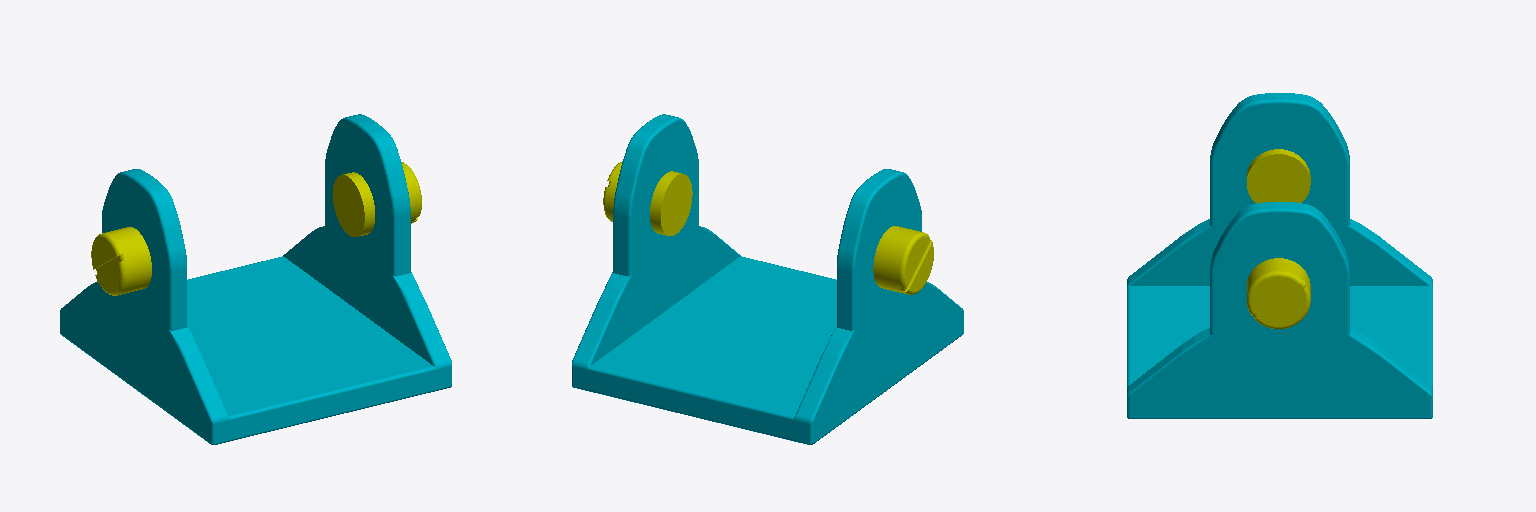
File: CannonFoundation(Horizontal).obj
3 renders of one model, left to right at view 1: azimuth 30°, elevation 25°; view 2: azimuth 150°, elevation 25°; view 3: azimuth 270°, elevation 25°, orthographic.
Parts seen in each view (by area): view 1: 立方体, 円柱.001, 円柱; view 2: 立方体, 円柱.001, 円柱; view 3: 立方体, 円柱, 円柱.001.
Boxes of the visible parts, x1=… form: 立方体: x1=60, y1=114, x2=451, y2=444; 円柱.001: x1=91, y1=227, x2=151, y2=295; 円柱: x1=333, y1=162, x2=421, y2=236; 立方体: x1=572, y1=114, x2=963, y2=444; 円柱.001: x1=873, y1=226, x2=933, y2=294; 円柱: x1=603, y1=161, x2=692, y2=235; 立方体: x1=1127, y1=93, x2=1432, y2=418; 円柱: x1=1247, y1=258, x2=1310, y2=328; 円柱.001: x1=1247, y1=149, x2=1310, y2=203.
Bounding box in the file's own units: 11.75 × 7.84 × 10.34.